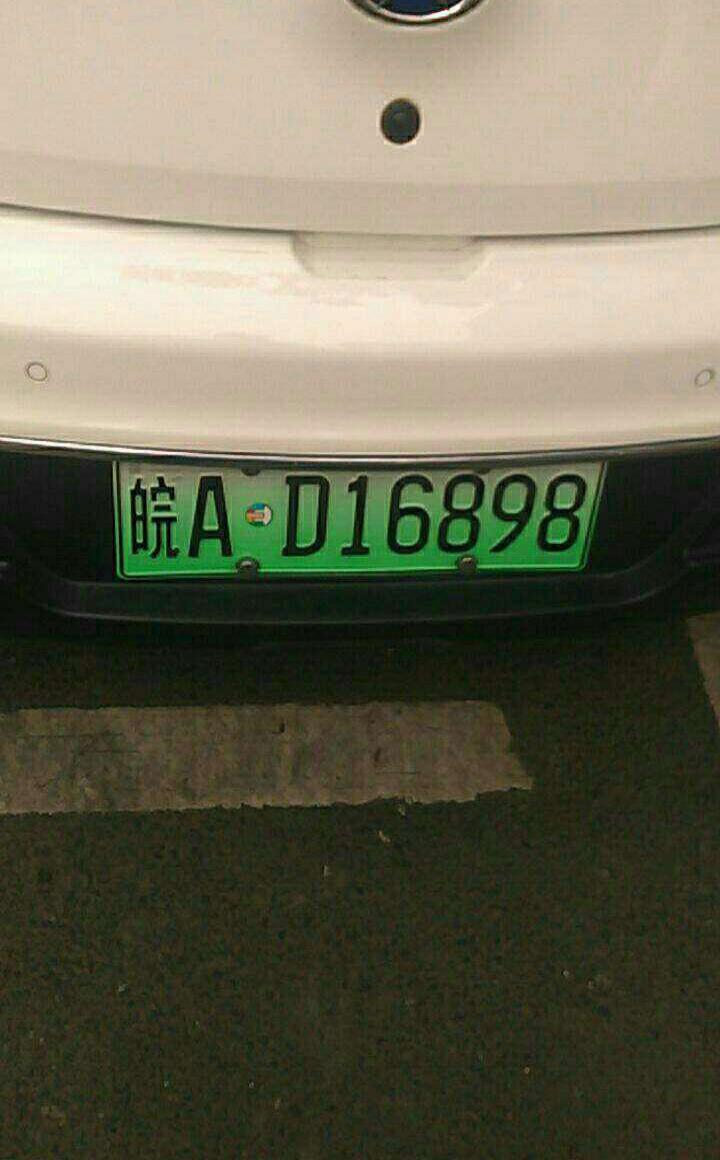car_id: (115, 457, 601, 578)
